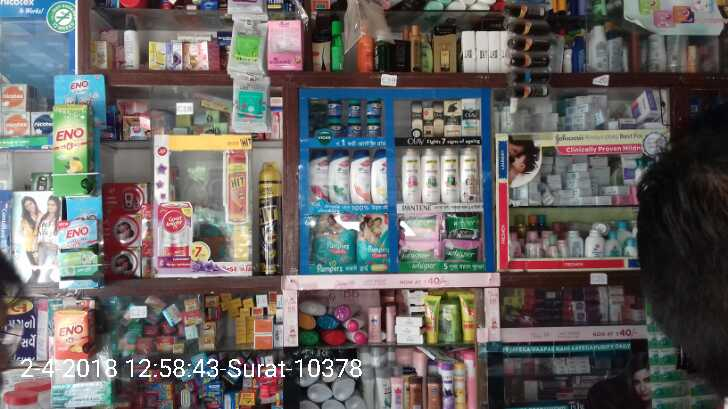vicks: (329, 97, 343, 118), (328, 118, 343, 137), (367, 98, 381, 118), (367, 118, 381, 137), (347, 100, 361, 118), (347, 119, 361, 137)
